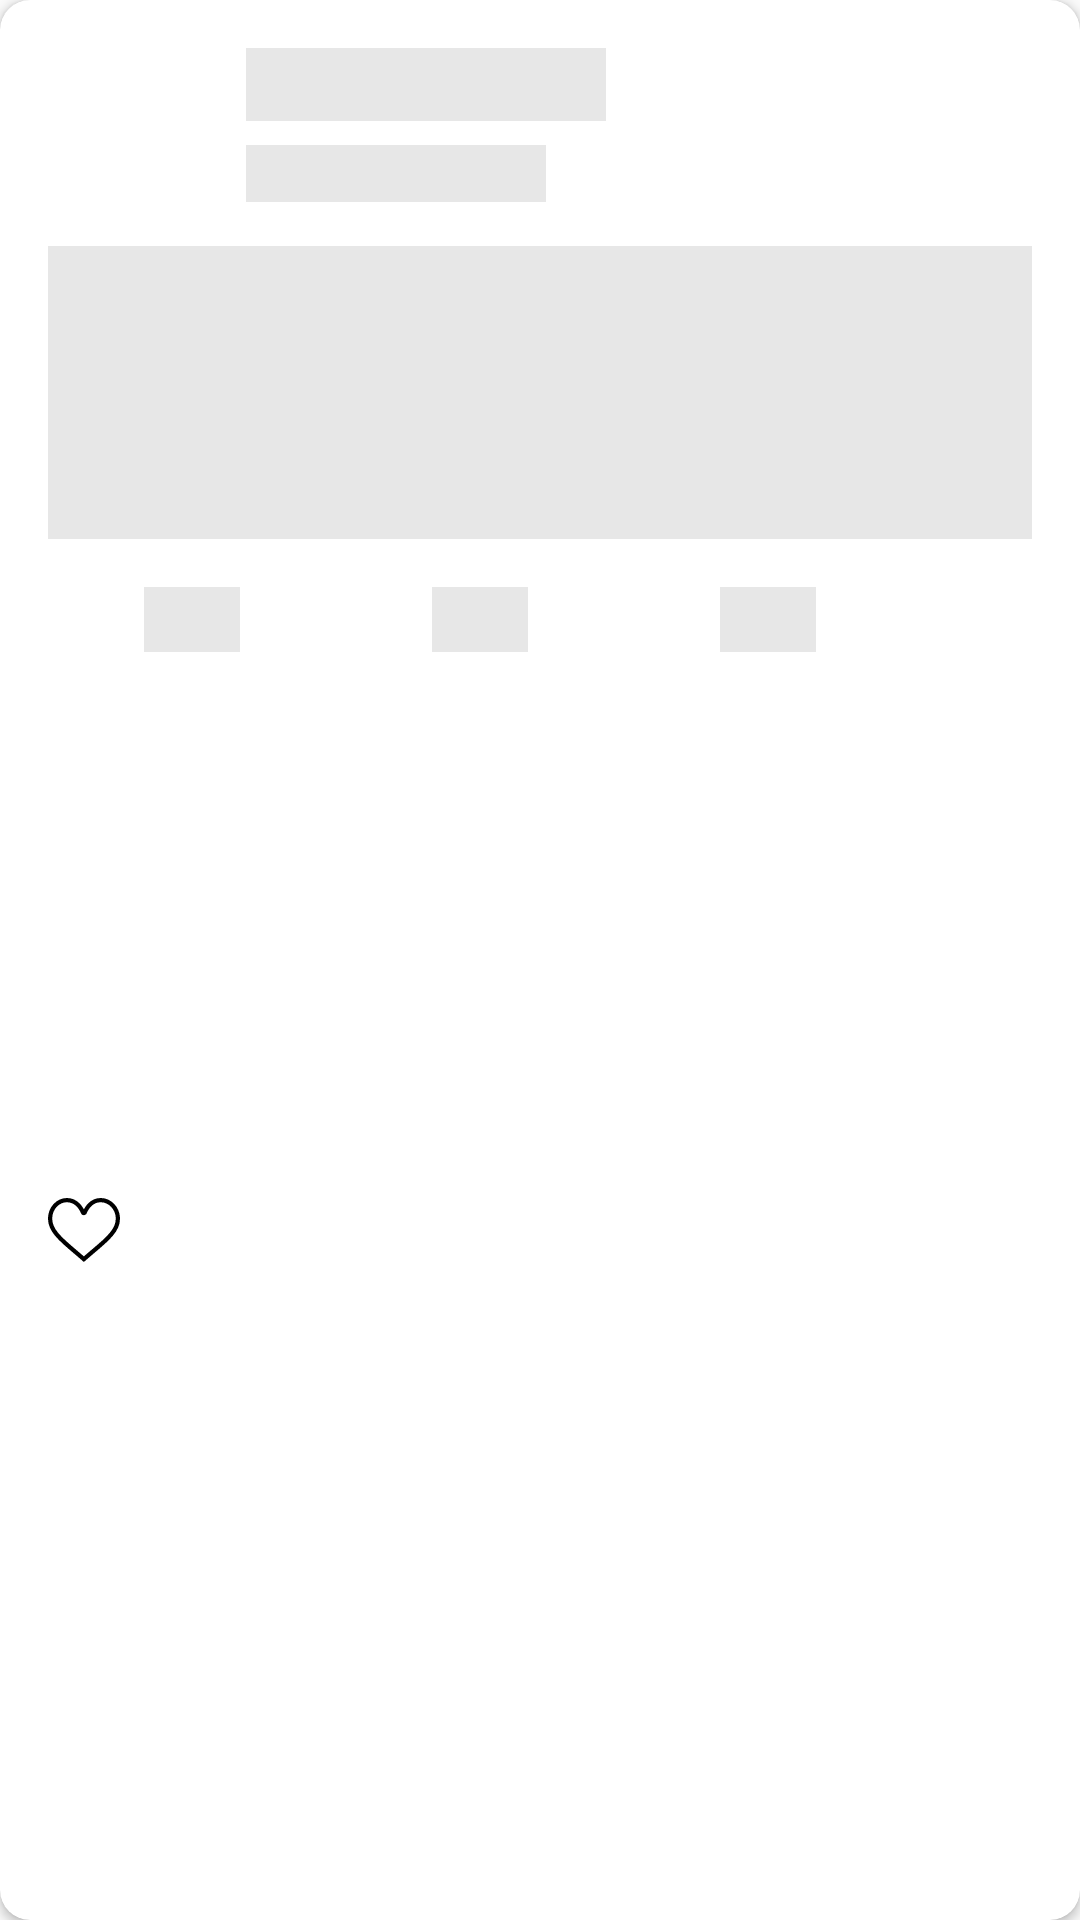

Named icons in this screenshot (1080px×1920px) and their centers, (x=x, y=y):
like: (x=84, y=1230)
